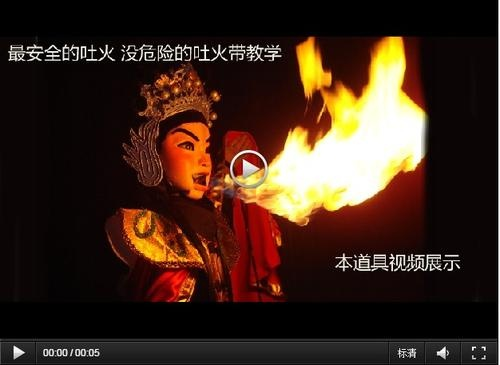fire: (233, 34, 429, 226)
